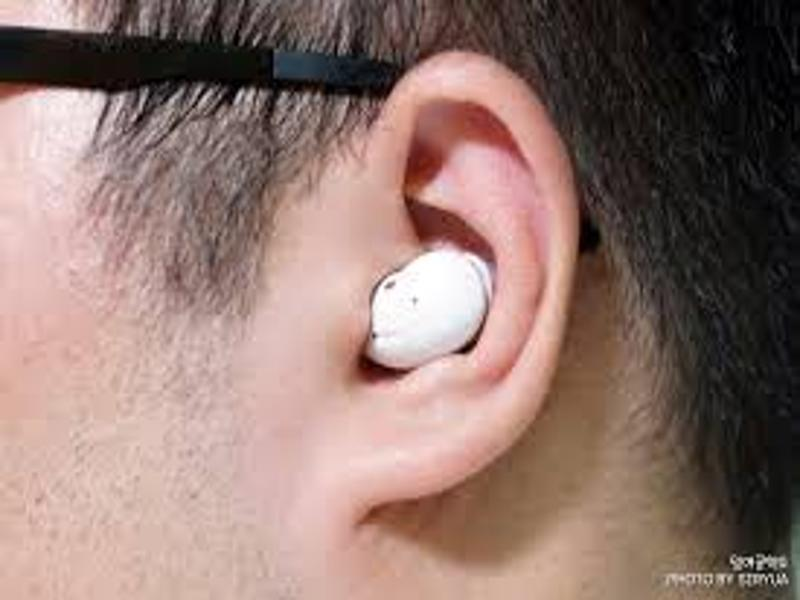headphone: (355, 247, 500, 376)
